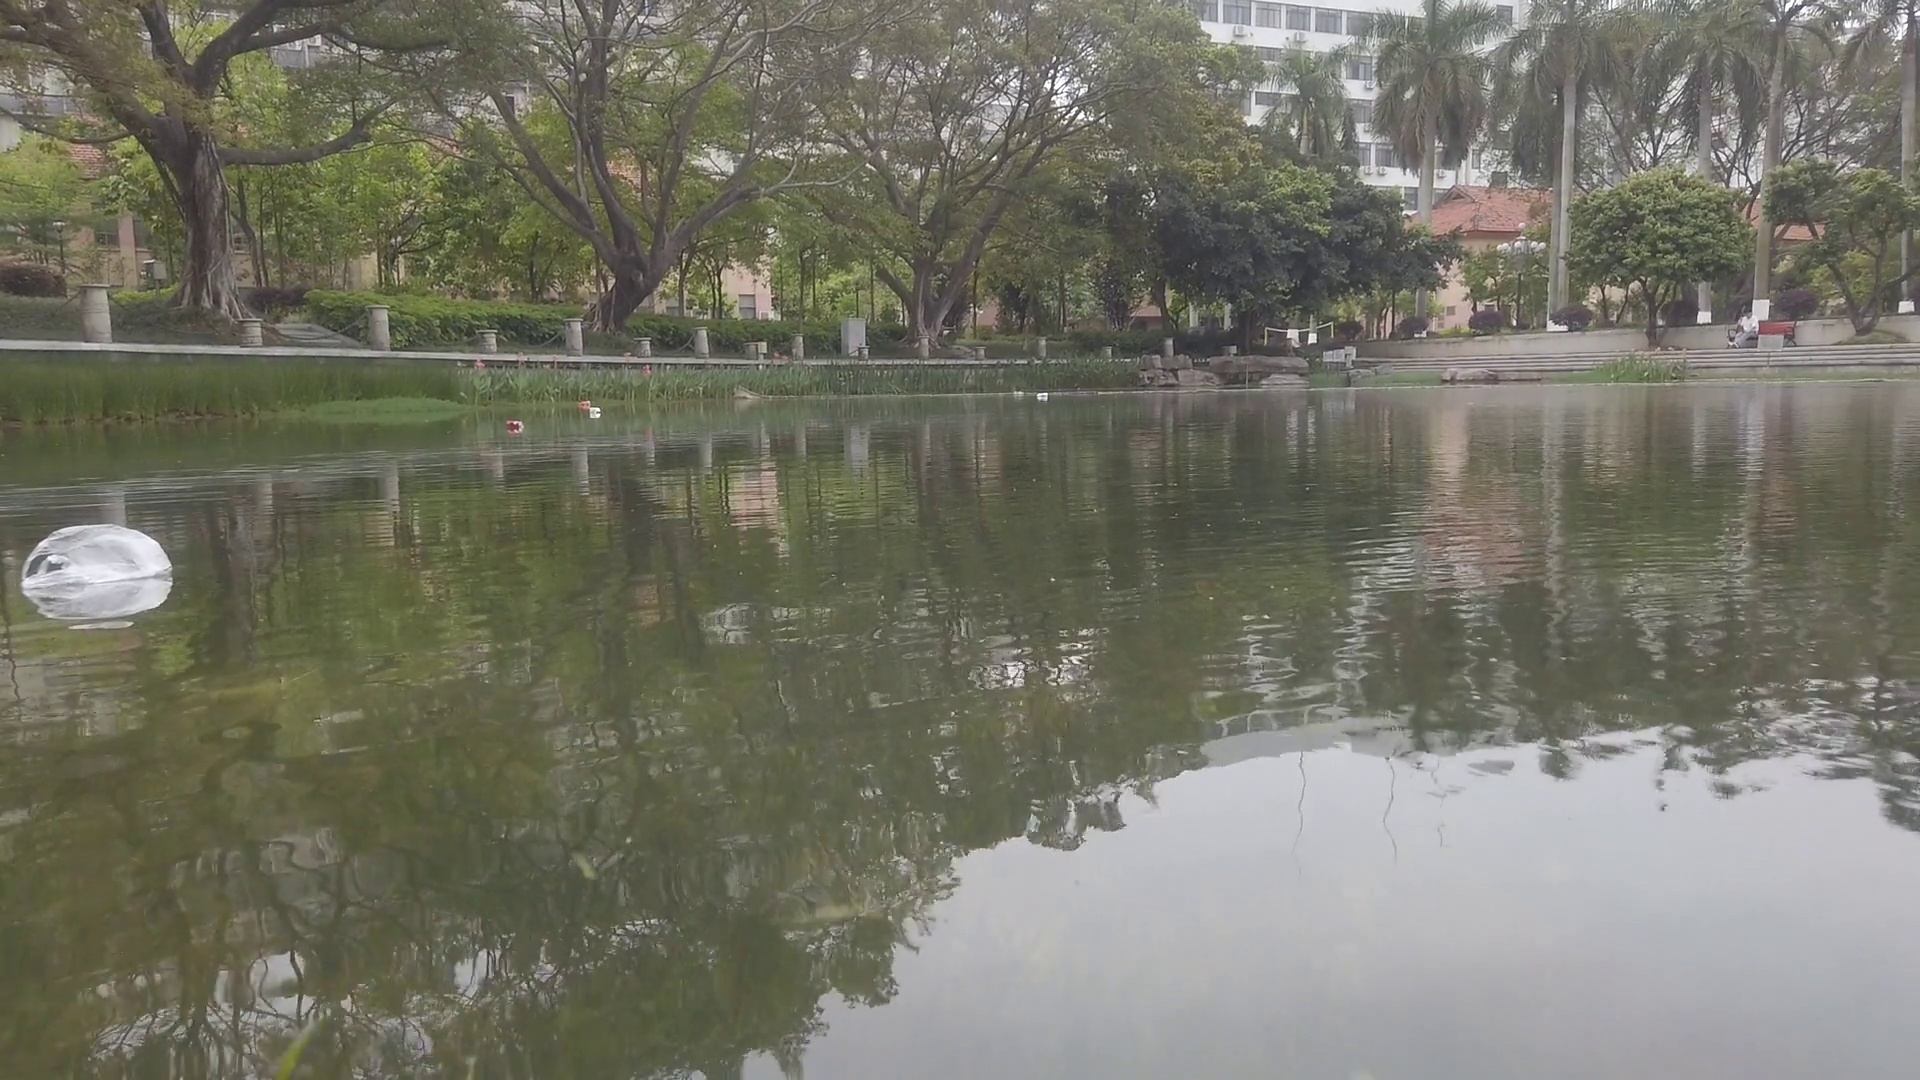bottle: (506, 419, 524, 430), (579, 400, 592, 407), (589, 407, 600, 415), (1038, 392, 1048, 398), (1014, 392, 1025, 397)
plastic: (18, 522, 183, 584)
